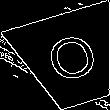O_S: (39, 28, 102, 91)
